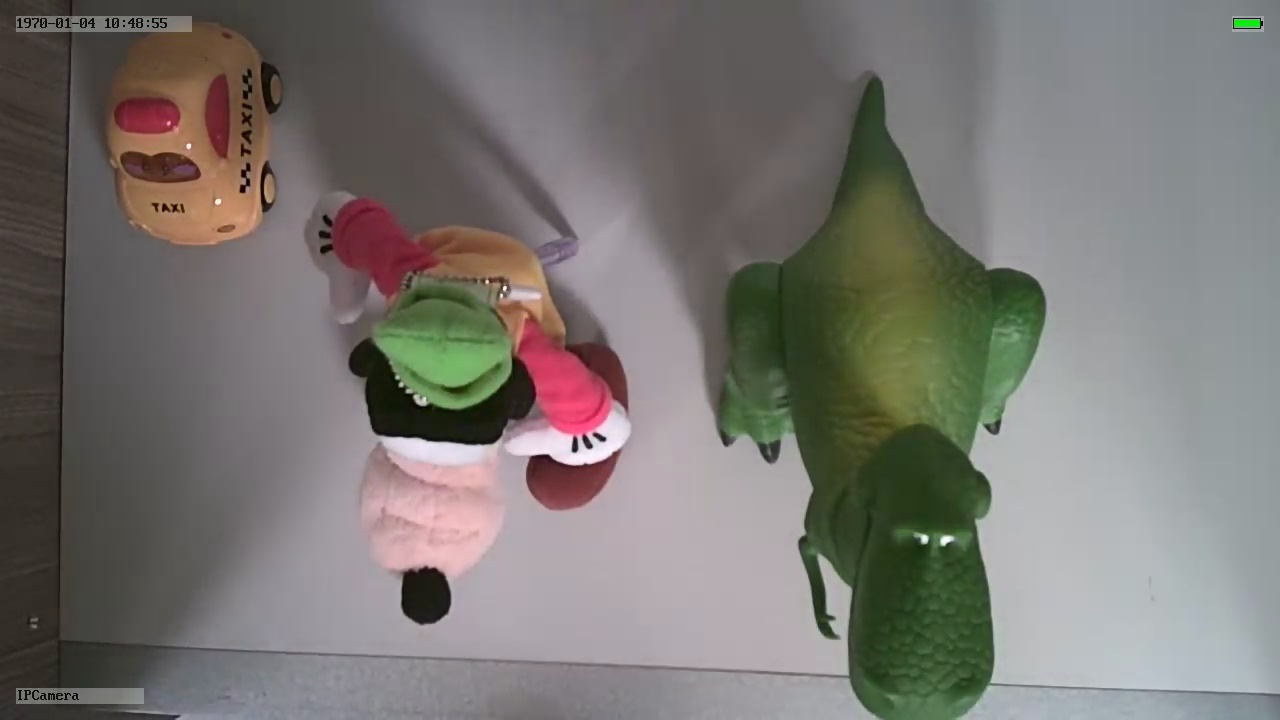car: (103, 20, 282, 248)
goofy: (298, 182, 633, 626)
rex: (718, 171, 1048, 720)
